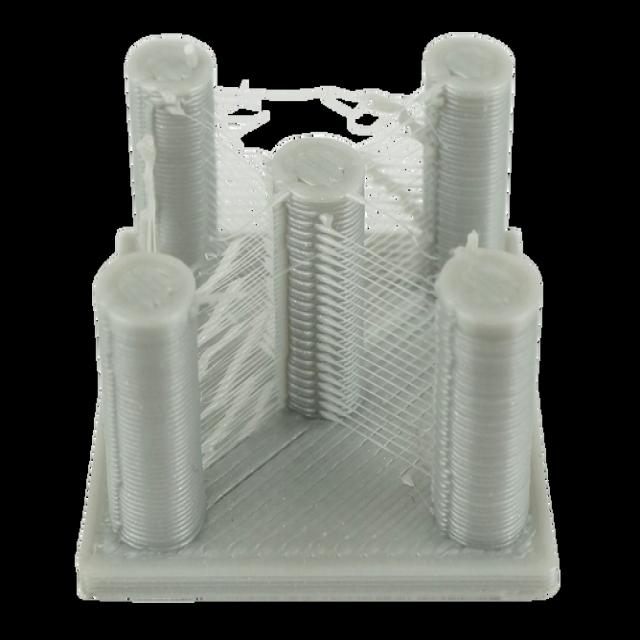Stringing: (169, 64, 441, 516)
